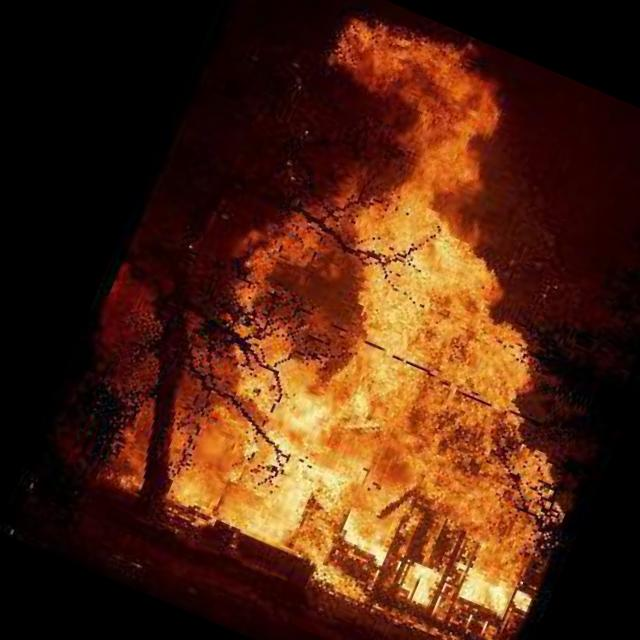fire: (89, 0, 640, 640)
